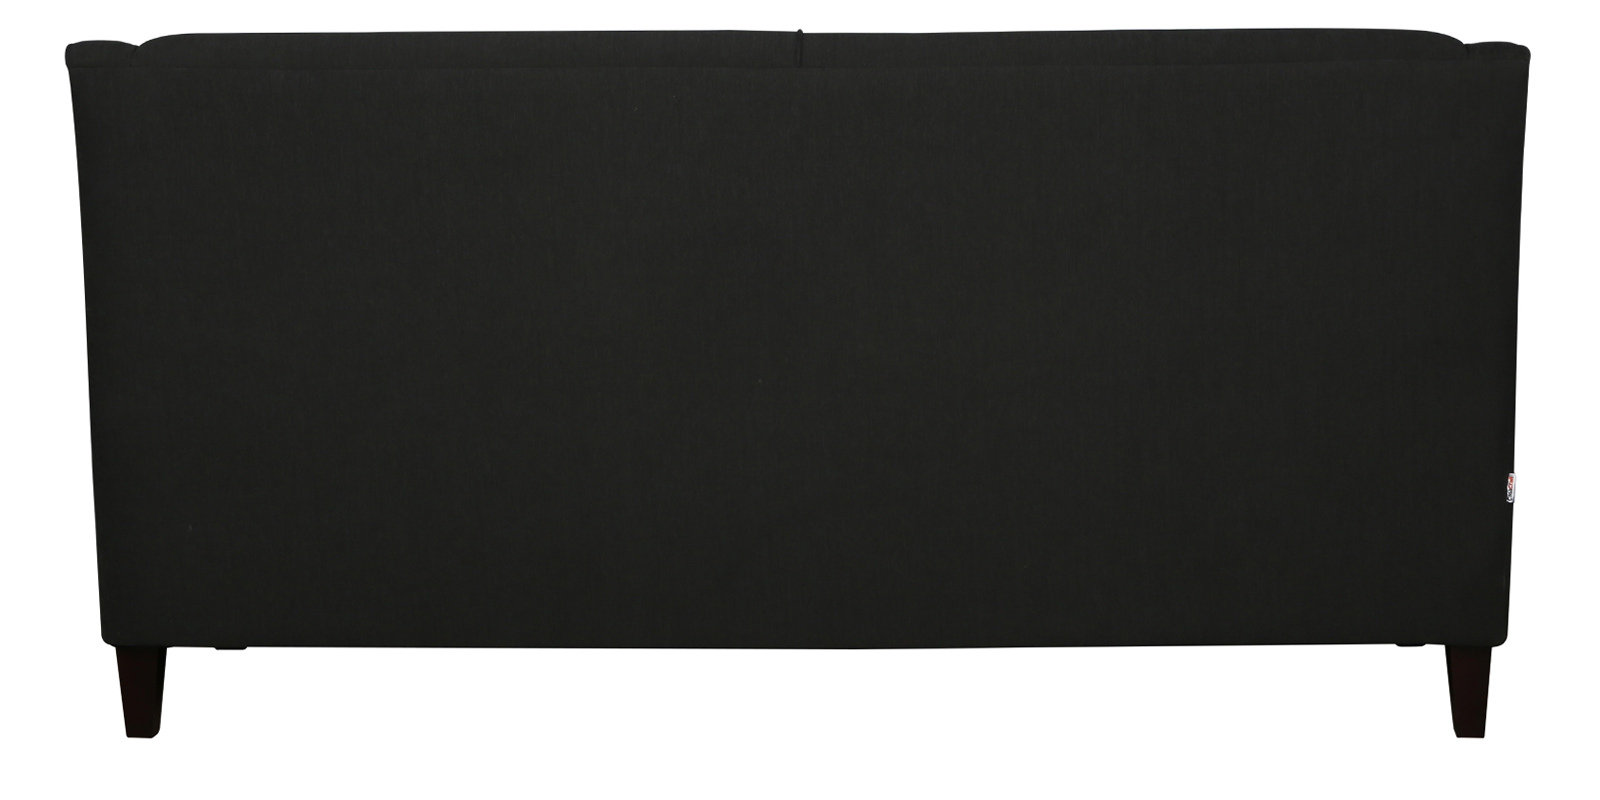Oscar Three Seater Sofa in Charcoal Grey Colour by CasaCraft: (66, 31, 1531, 737)
